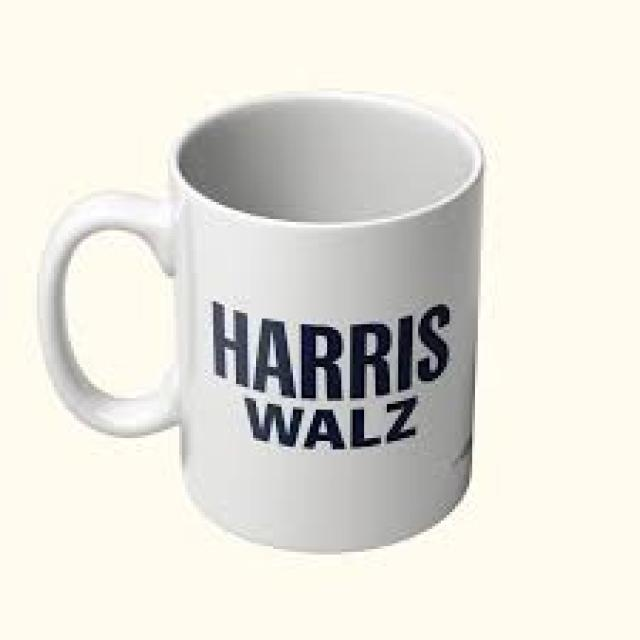taza: (39, 89, 484, 553)
